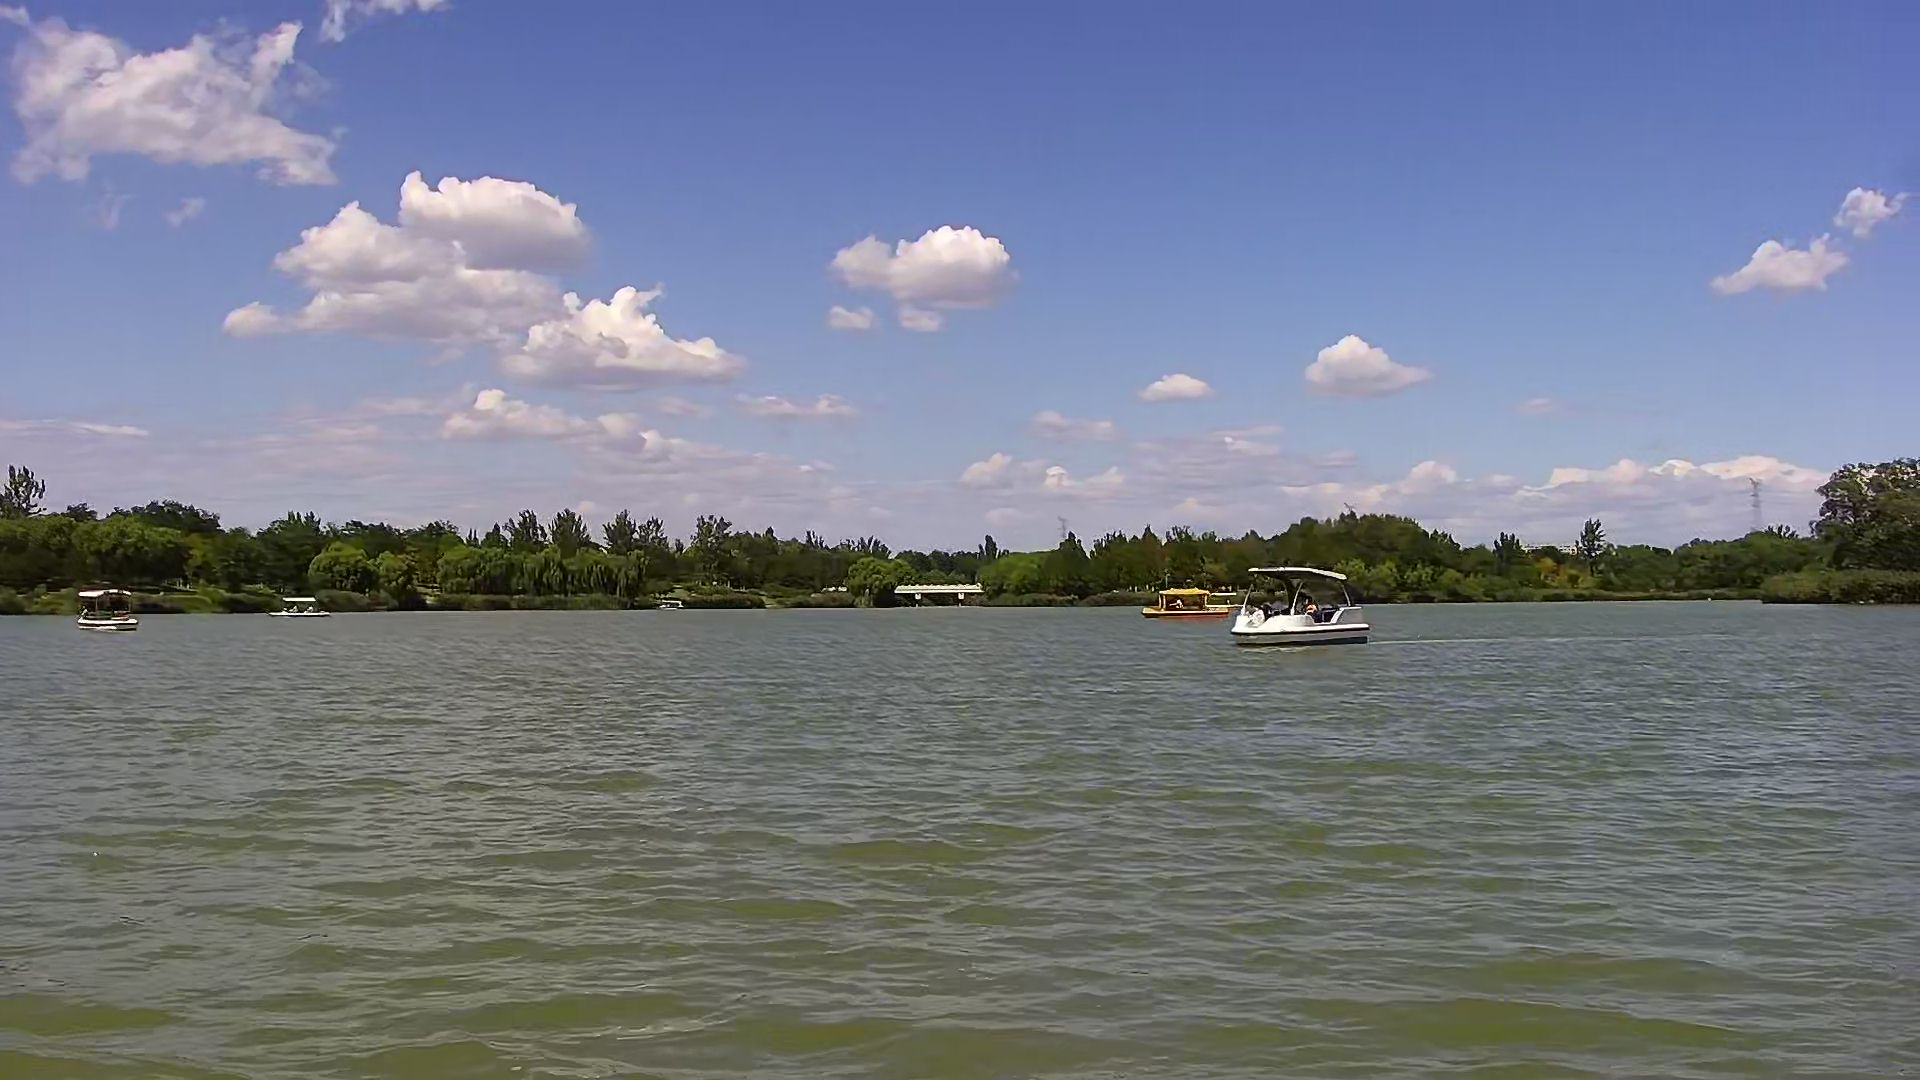boat: (1230, 563, 1367, 645), (76, 585, 136, 634), (1145, 589, 1230, 617), (269, 593, 322, 616)
bridge: (899, 583, 975, 607)
